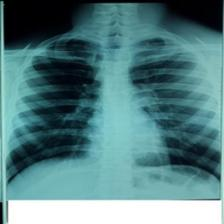tuberculosis: (4, 23, 220, 198)
